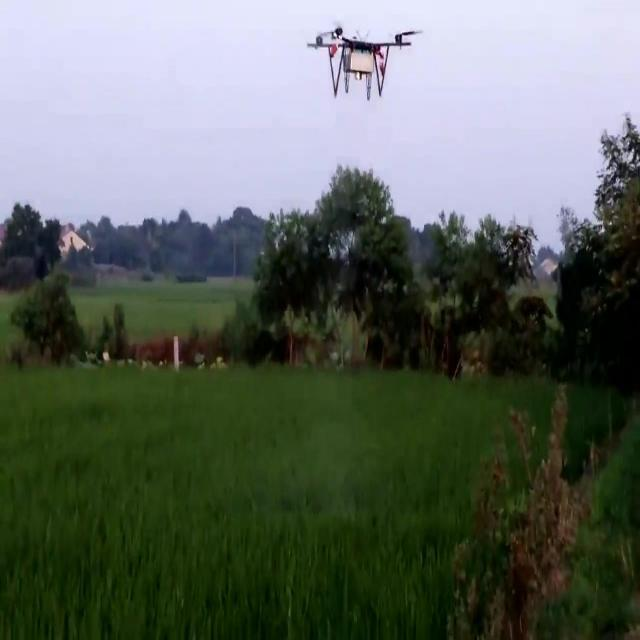UAV: (306, 22, 424, 102)
